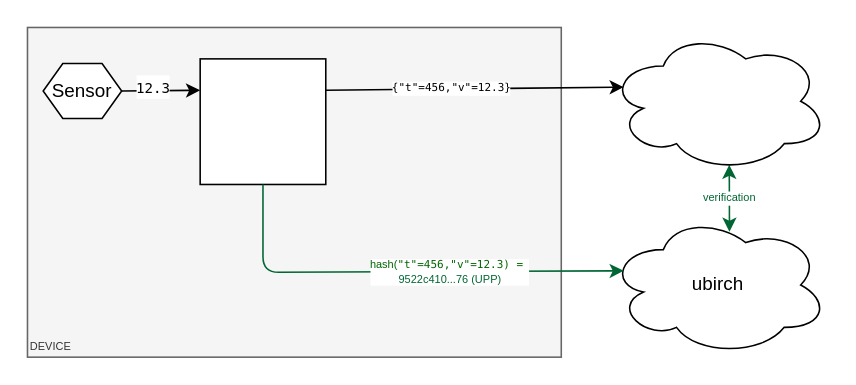
This 856x385 diagram has some shape labels left out. The shapes that lost their labels are listed below. From the top down, each one's box as (x1, y1, x2, y2) in pixels, then its label:
(199, 57, 326, 184): MCU
(607, 29, 828, 172): Customer Cloud
